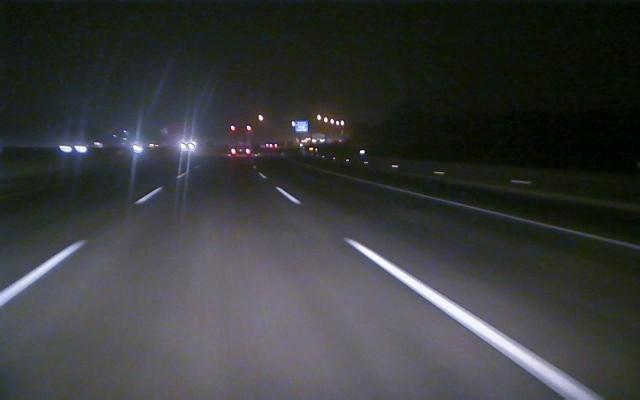lane: (280, 189, 604, 399), (372, 181, 639, 250), (1, 192, 156, 306)
